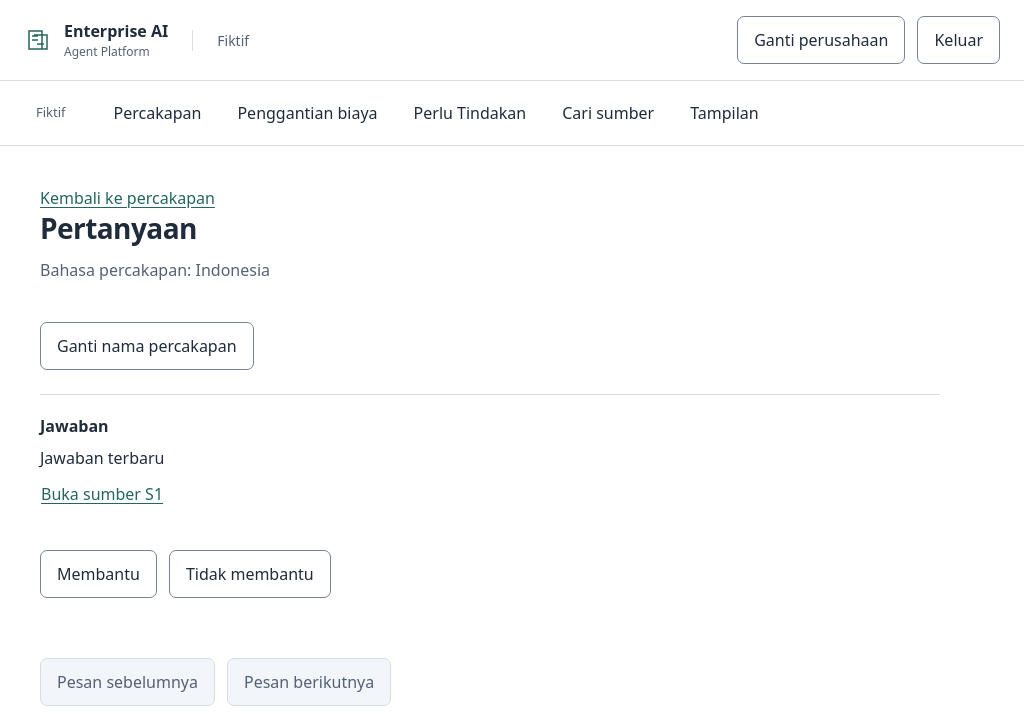
masks stale answer and feedback when returning from a source cannot revalidate history
Click the button "Buka sumber S1": coordinates (102, 494) [40,470,164,518]
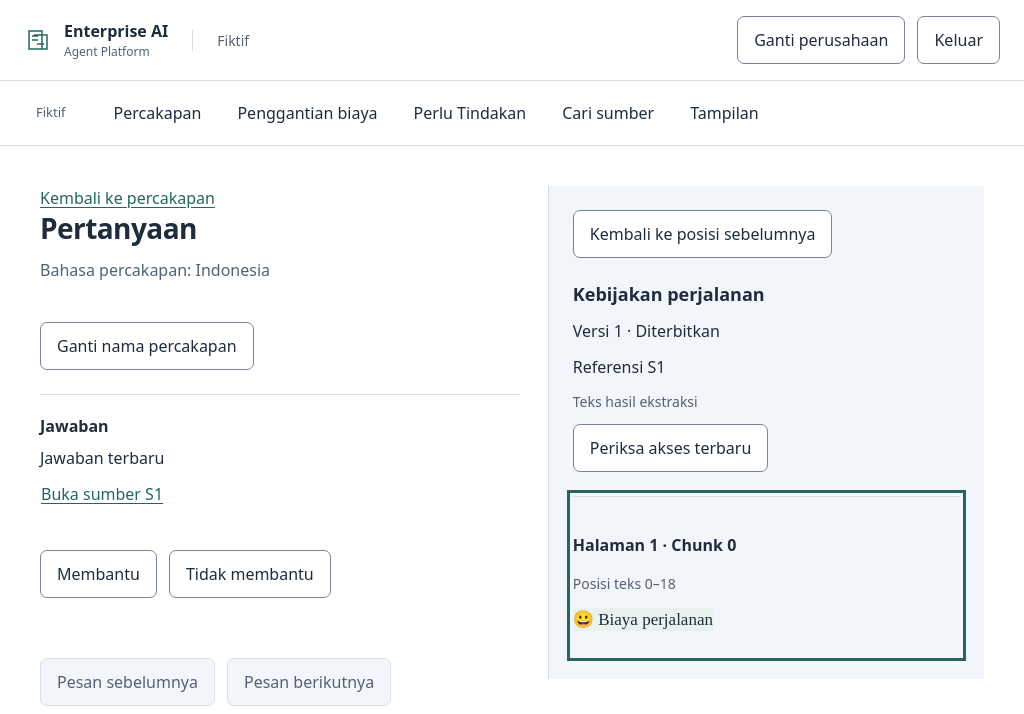
Expected: the text "😀 Biaya perjalanan" is shown, [573,608,713,631]
Click the button "Kembali ke posisi sebelumnya": coordinates (703, 234) [573,210,832,258]
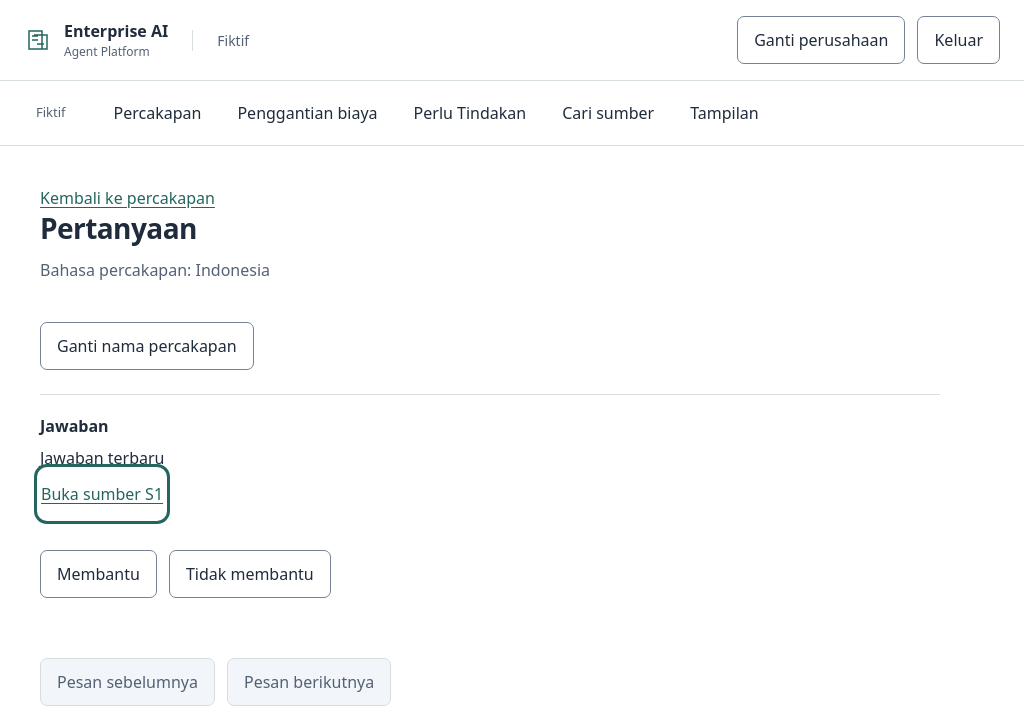
Click the button "Buka sumber S1": coordinates (102, 494) [40,470,164,518]
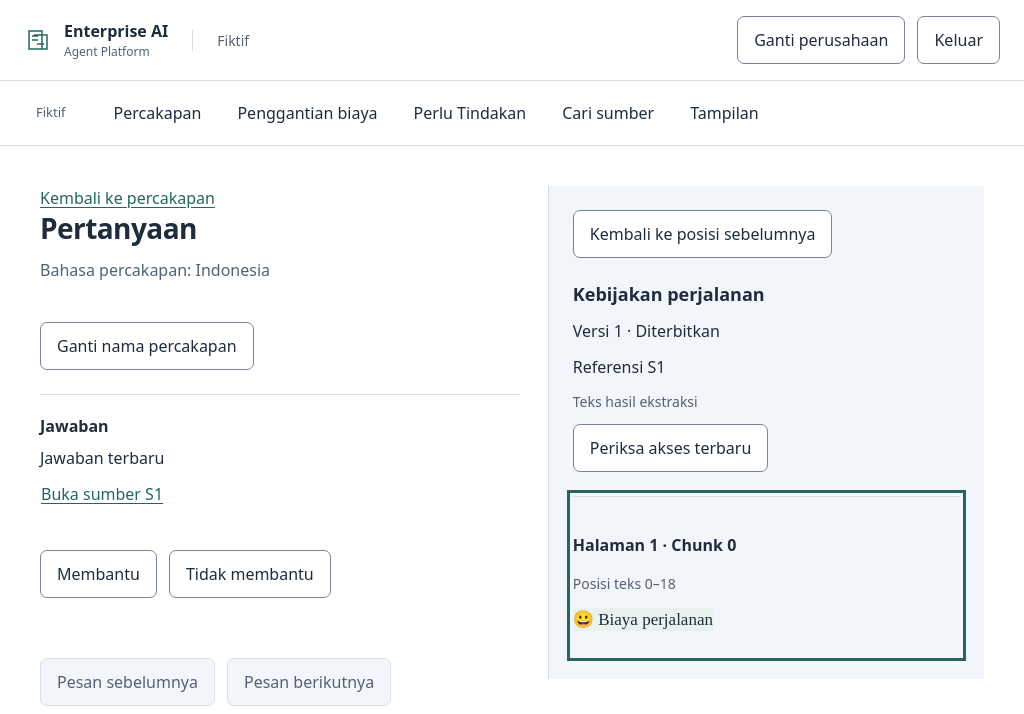
Expected: the text "😀 Biaya perjalanan" is shown, [573,608,713,631]
Click the button "Kembali ke posisi sebelumnya": coordinates (703, 234) [573,210,832,258]
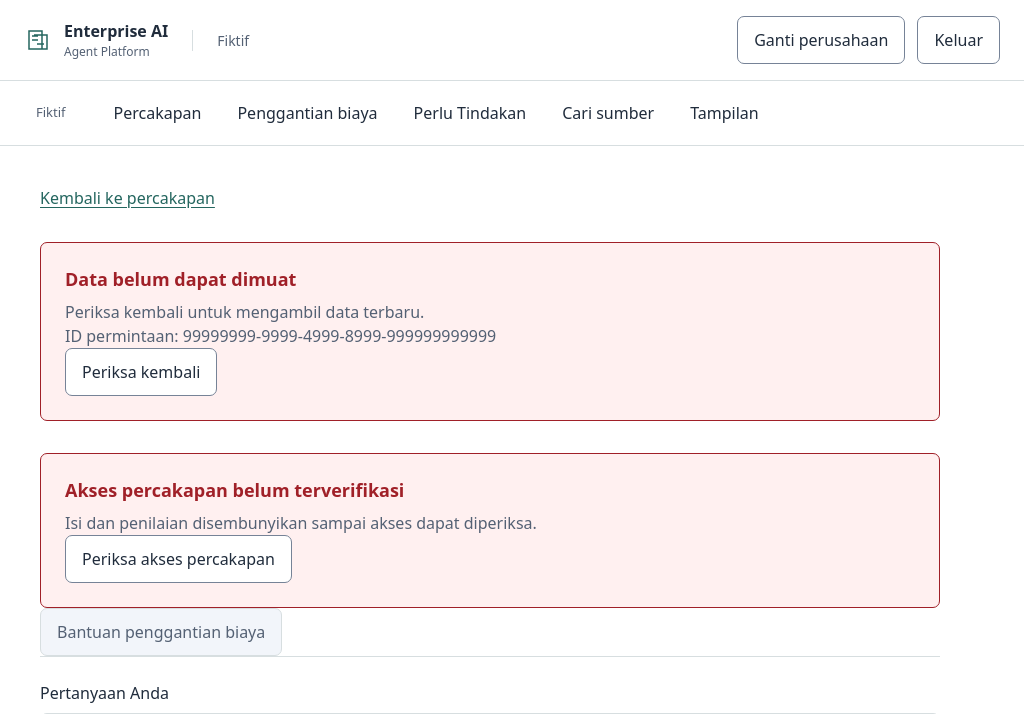
Expected: the heading "Akses percakapan belum terverifikasi" is shown, [65,478,404,502]
Expected: the text "Jawaban terbaru" is gone
Expected: the button "Membantu" is gone
Click the button "Periksa akses percakapan": coordinates (178, 559) [65,535,292,583]
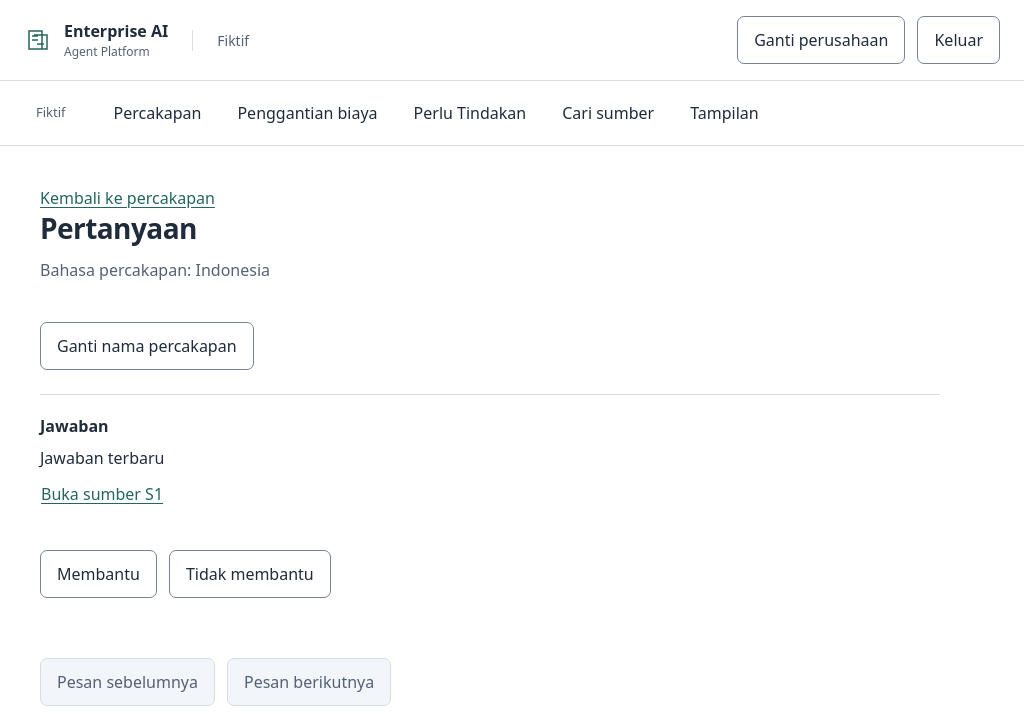
Expected: the text "Jawaban terbaru" is shown, [40,447,164,469]
